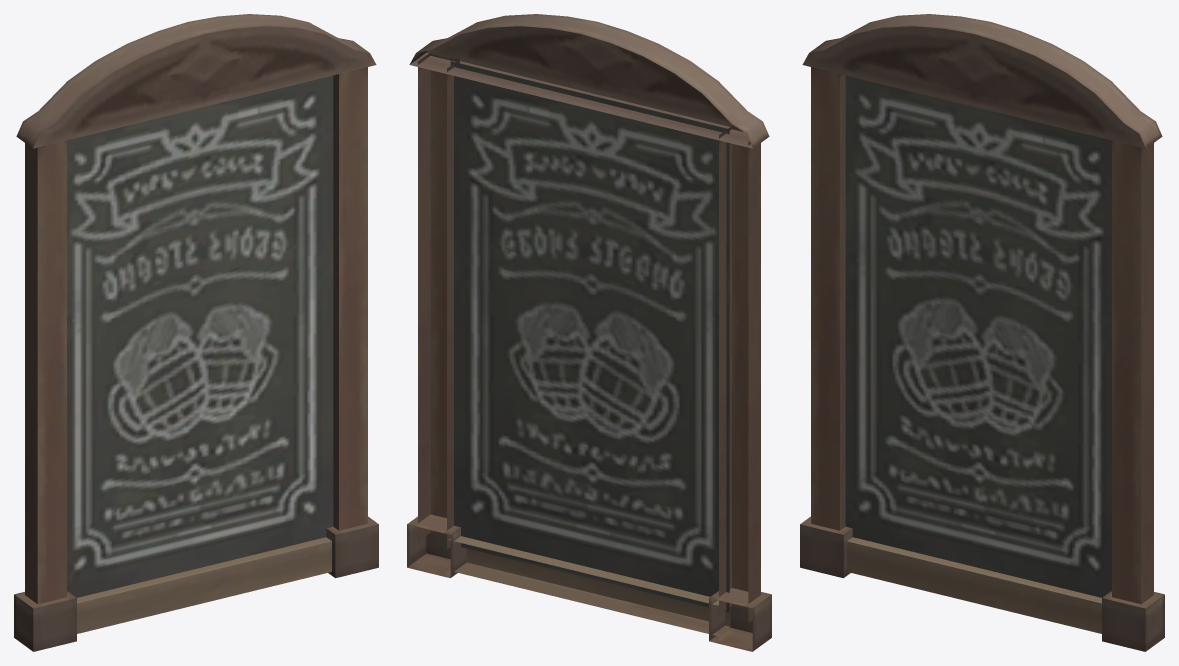
Rendered from Homeworld_Interior_Md_Walldecoration_Sign_02_Vo.fbx.
The picture shows the model from 3 angles, left to right: view 1: azimuth 30°, elevation 25°; view 2: azimuth 150°, elevation 25°; view 3: azimuth 330°, elevation 25°; orthographic projection.
Parts seen in each view (by area): view 1: Homeworld_Interior_Md_Walldecoration_Sign_02_Vo; view 2: Homeworld_Interior_Md_Walldecoration_Sign_02_Vo; view 3: Homeworld_Interior_Md_Walldecoration_Sign_02_Vo.
Part boxes in pixels (left/top/right/bottom): Homeworld_Interior_Md_Walldecoration_Sign_02_Vo: left=14, top=14, right=378, bottom=651; Homeworld_Interior_Md_Walldecoration_Sign_02_Vo: left=407, top=14, right=771, bottom=651; Homeworld_Interior_Md_Walldecoration_Sign_02_Vo: left=800, top=14, right=1164, bottom=651.
Bounding box in the file's own units: 0.5398 × 0.8581 × 0.0526.
